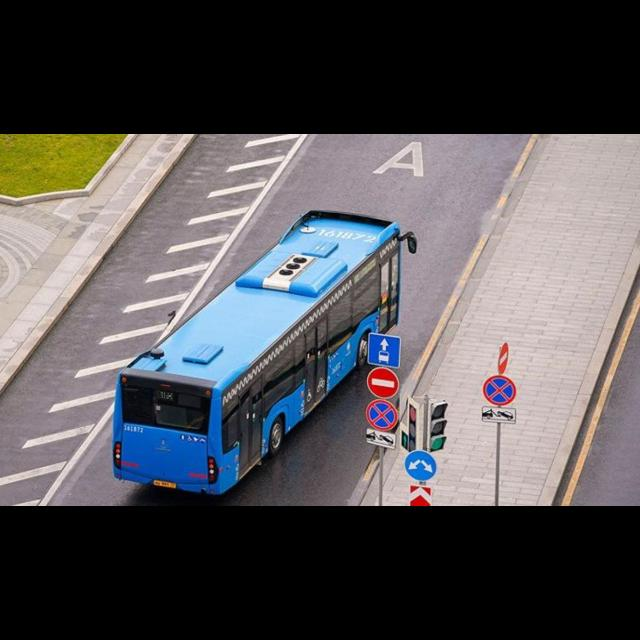road: (0, 134, 294, 506), (193, 134, 528, 378), (49, 370, 372, 506), (574, 320, 639, 505)
